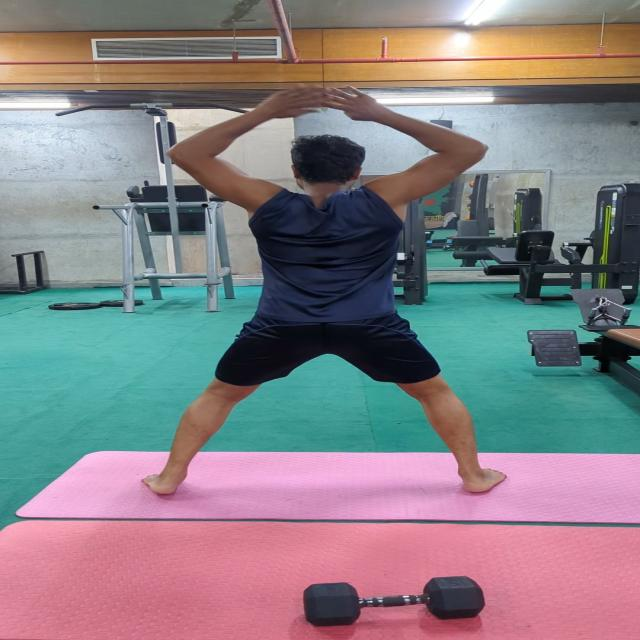Normal_JumpingJacks: (135, 69, 530, 517)
